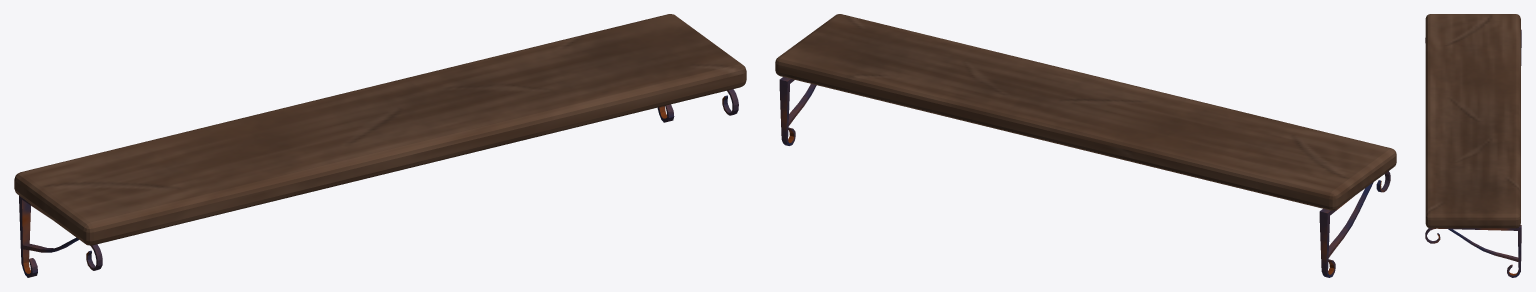
Rendered from Prateleira.fbx.
3 views of the same model, side by side, from view 1: azimuth 30°, elevation 25°; view 2: azimuth 150°, elevation 25°; view 3: azimuth 270°, elevation 25° (orthographic). The views are drawn at different scales.
Parts seen in each view (by area): view 1: Prateleira; view 2: Prateleira; view 3: Prateleira.
Part boxes in pixels (x1=…): Prateleira: x1=14, y1=14, x2=746, y2=277; Prateleira: x1=775, y1=14, x2=1396, y2=277; Prateleira: x1=1425, y1=14, x2=1521, y2=277.
Bounding box in the file's own units: 172 × 25.72 × 34.42.
1 material, 1 textured.
